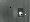person: (19, 9, 24, 18)
